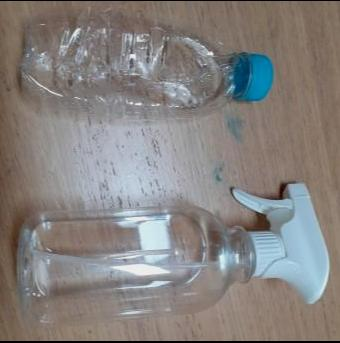bottle: (17, 181, 327, 325), (16, 2, 278, 138)
